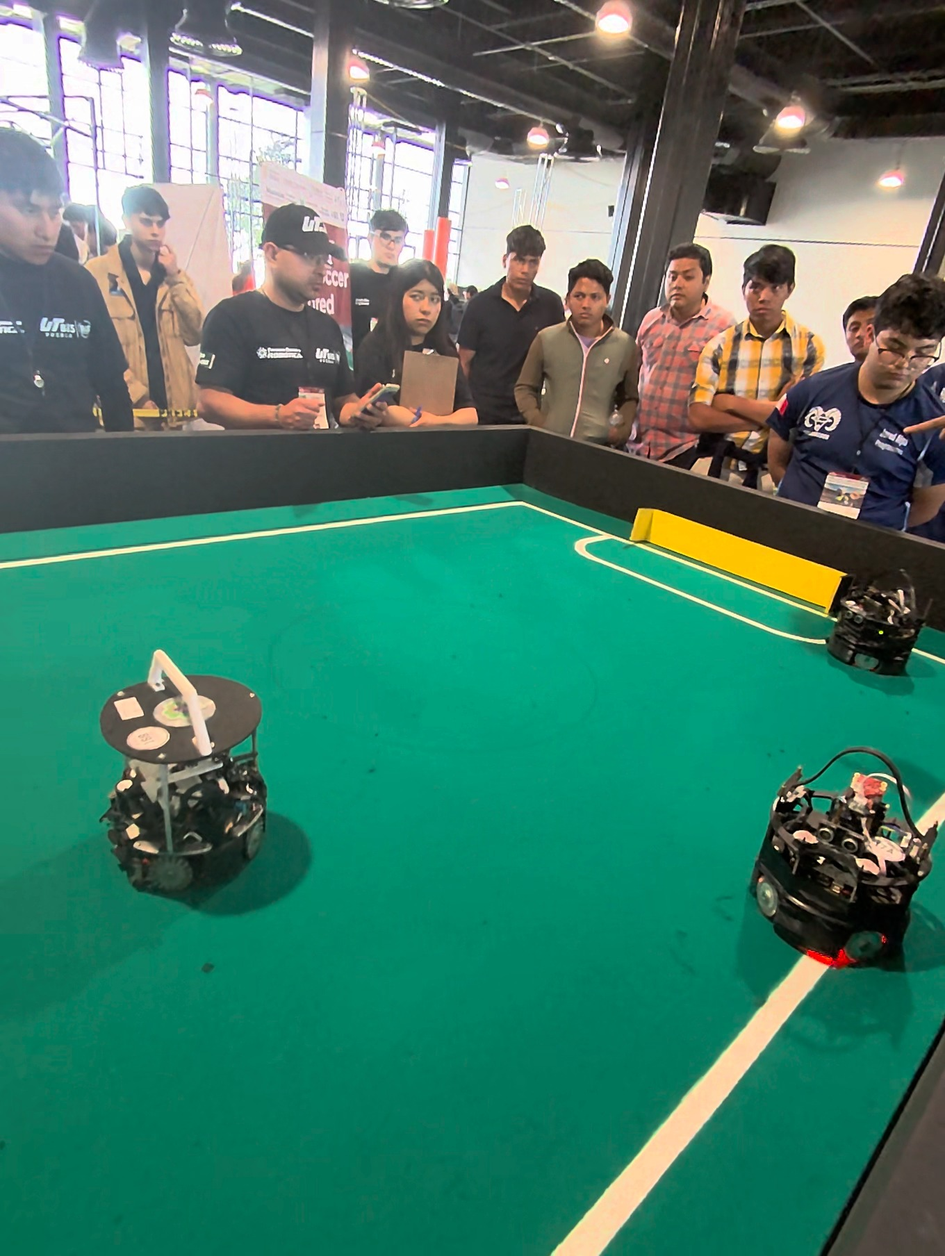Robot: (86, 634, 290, 907), (755, 733, 939, 984), (823, 562, 922, 683)
